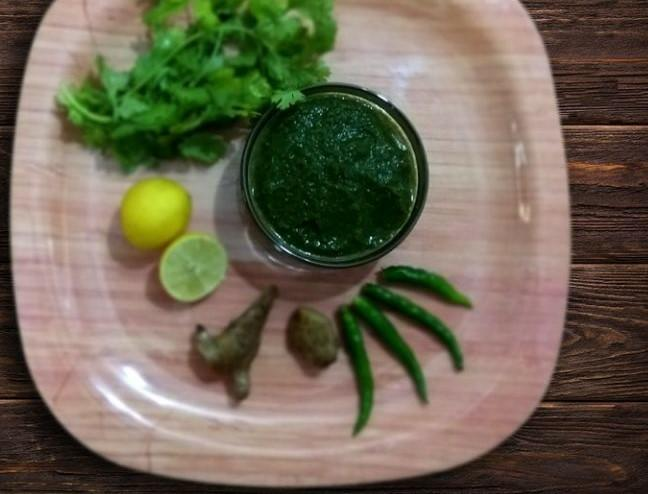GreenChutney: (253, 96, 410, 254)
